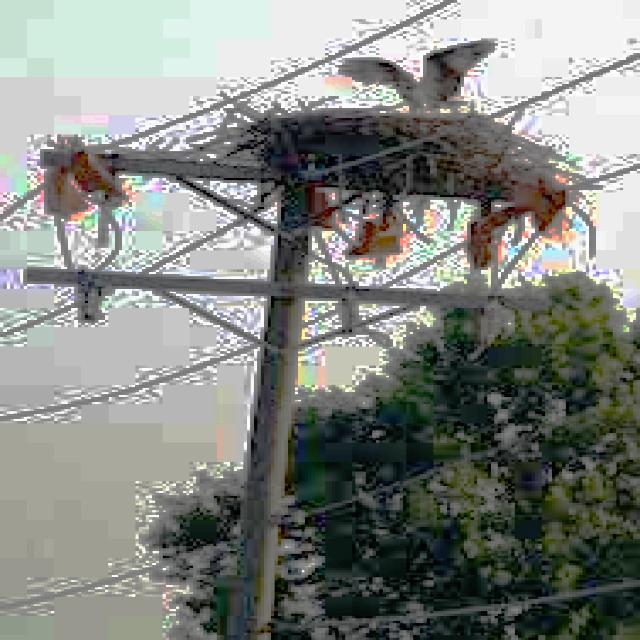obstruction: (112, 111, 542, 231)
poles: (24, 171, 464, 638), (41, 144, 278, 212)
wires: (95, 0, 457, 152), (0, 291, 261, 421), (139, 180, 271, 277), (484, 51, 637, 118), (0, 565, 149, 611), (298, 296, 417, 351), (481, 231, 535, 303), (379, 241, 457, 289), (518, 580, 637, 609), (0, 301, 78, 337), (569, 161, 637, 192), (312, 238, 352, 289), (91, 207, 122, 267), (0, 180, 41, 221), (569, 202, 596, 257), (420, 602, 508, 618), (383, 462, 437, 488), (183, 130, 220, 147), (54, 219, 68, 262)
